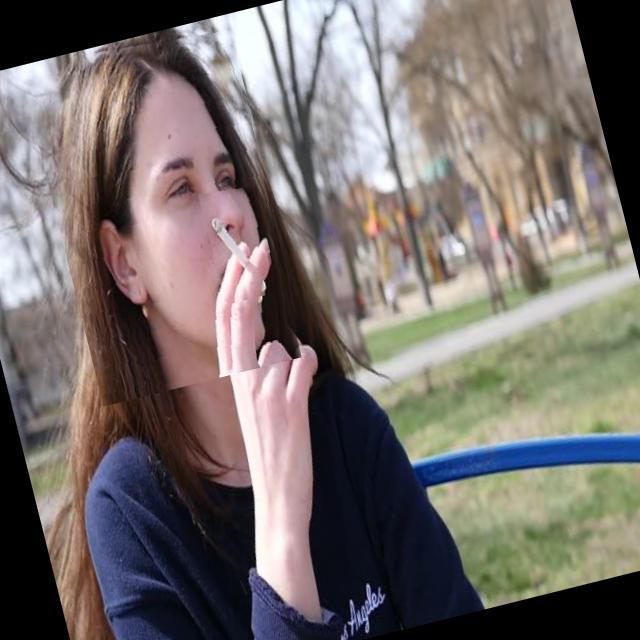cigarette: (198, 180, 282, 304)
